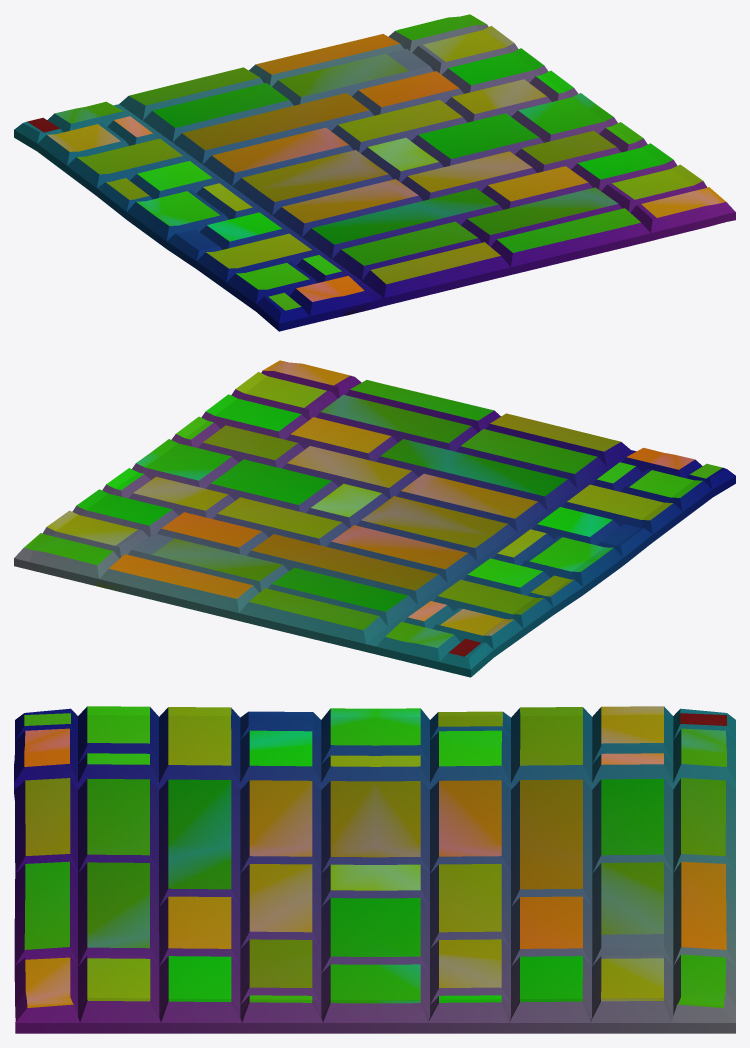
Rendered from HouseUpperRoof.fbx.
3 renders of one model, top to bottom at view 1: azimuth 30°, elevation 25°; view 2: azimuth 150°, elevation 25°; view 3: azimuth 270°, elevation 25°, orthographic. The views are drawn at different scales.
Parts seen in each view (by area): view 1: HouseRoof; view 2: HouseRoof; view 3: HouseRoof.
Part boxes in pixels (x1,y1,x2,y2): HouseRoof: (14,14,735,331); HouseRoof: (14,360,735,677); HouseRoof: (14,706,735,1033).
Bounding box in the file's own units: 78.24 × 3.49 × 78.75.
